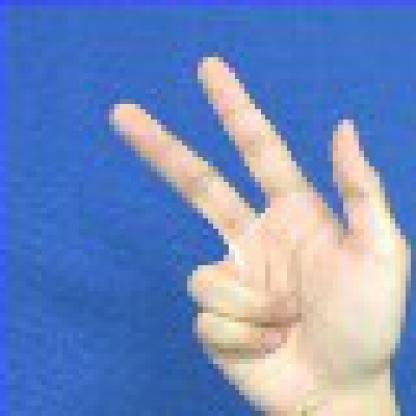eight: (57, 26, 411, 411)
